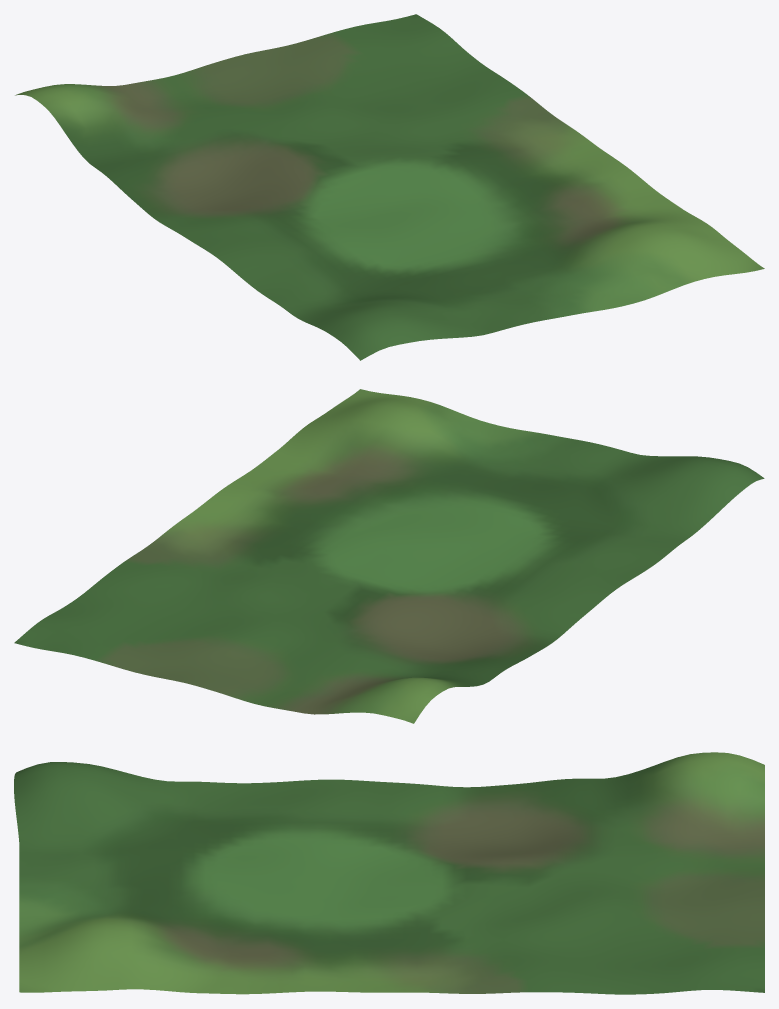
Rendered from course1.glb.
3 views of the same model, one above another, from view 1: azimuth 30°, elevation 25°; view 2: azimuth 150°, elevation 25°; view 3: azimuth 270°, elevation 25° (orthographic). The views are drawn at different scales.
Visible parts, largest first — view 1: Couse1; view 2: Couse1; view 3: Couse1.
Boxes of the visible parts, <box> form: Couse1: <box>15,14,764,360</box>; Couse1: <box>14,389,764,723</box>; Couse1: <box>14,752,764,994</box>.
Size of what is drawn, in the model's own units: 40.65 by 4.04 by 60.44.
